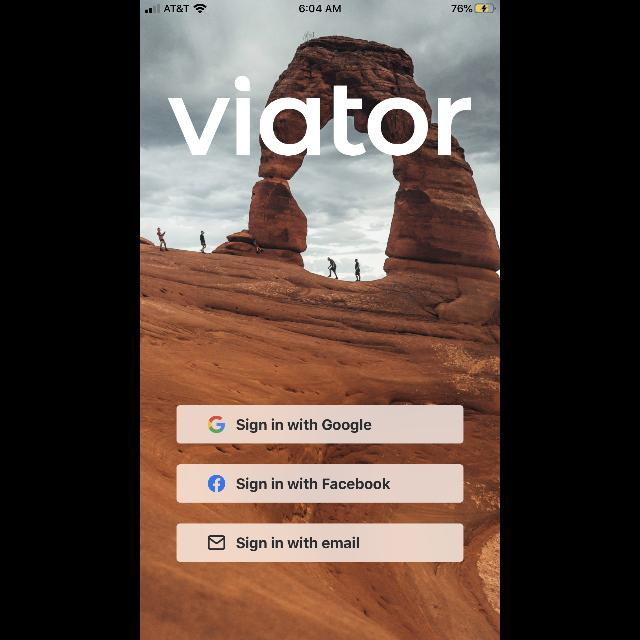backgroundimage: (140, 1, 500, 640)
icon: (208, 474, 226, 492), (208, 416, 226, 432), (208, 534, 226, 550)
image: (169, 76, 471, 156)
textbutton: (177, 405, 463, 443), (177, 524, 463, 560), (177, 466, 463, 502)
uppertaskbar: (140, 0, 500, 14)
